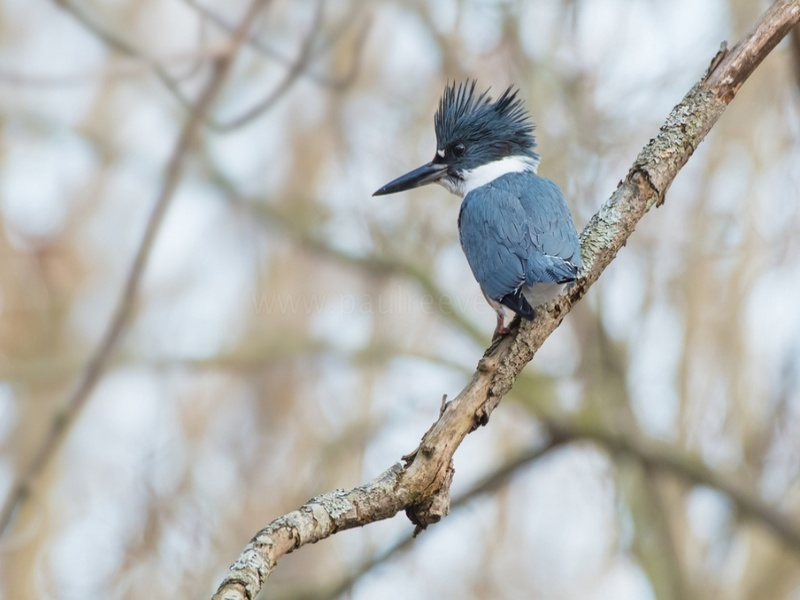kingfisher: (372, 79, 586, 332)
